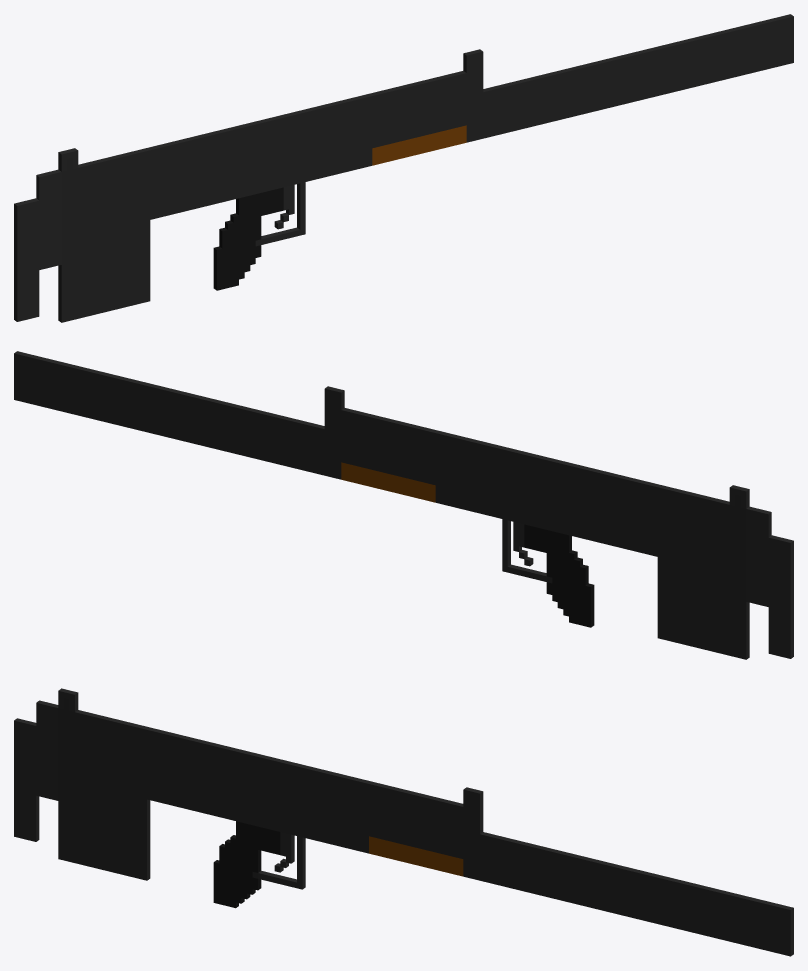
The model's file is PPIcon.obj.
The picture shows the model from 3 angles, top to bottom: view 1: azimuth 30°, elevation 25°; view 2: azimuth 150°, elevation 25°; view 3: azimuth 330°, elevation 25°; orthographic projection.
Size of the model in its own units: 14 by 3 by 0.1.
Materials: 1 (1 with a texture image).
